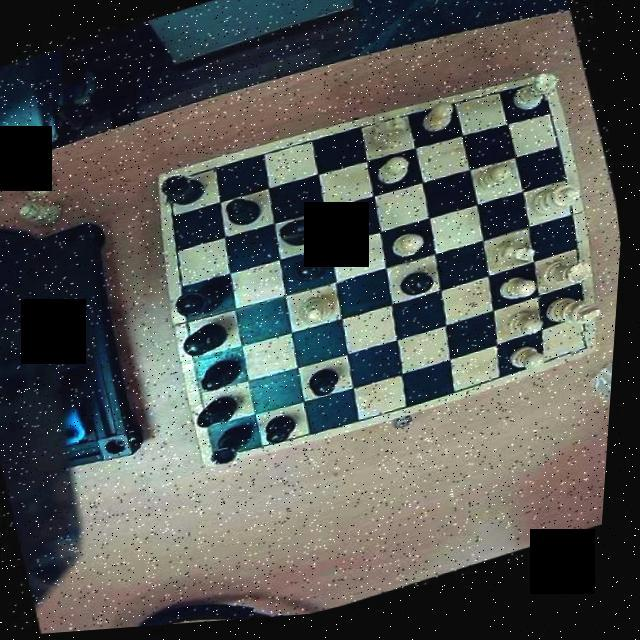chess-table-corners: (157, 170, 200, 212), (206, 433, 243, 472), (519, 80, 557, 116), (568, 337, 604, 370)
